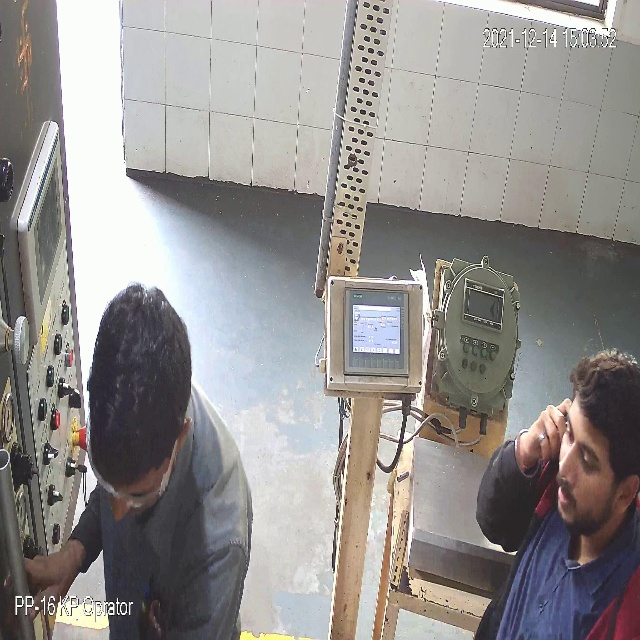Sin_mascara: (551, 457, 608, 536)
